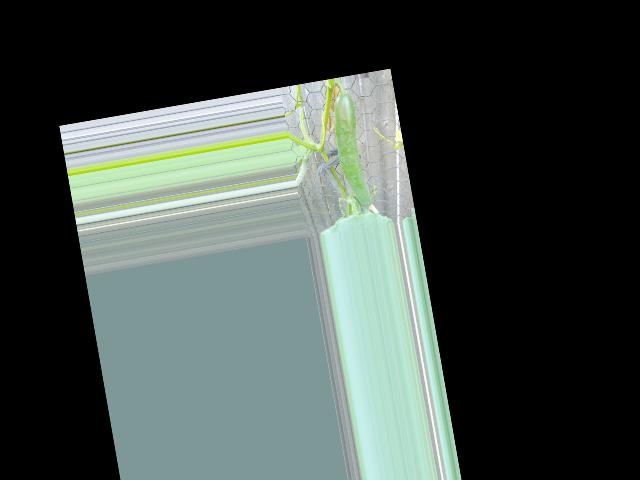cucumber: (327, 92, 372, 208)
